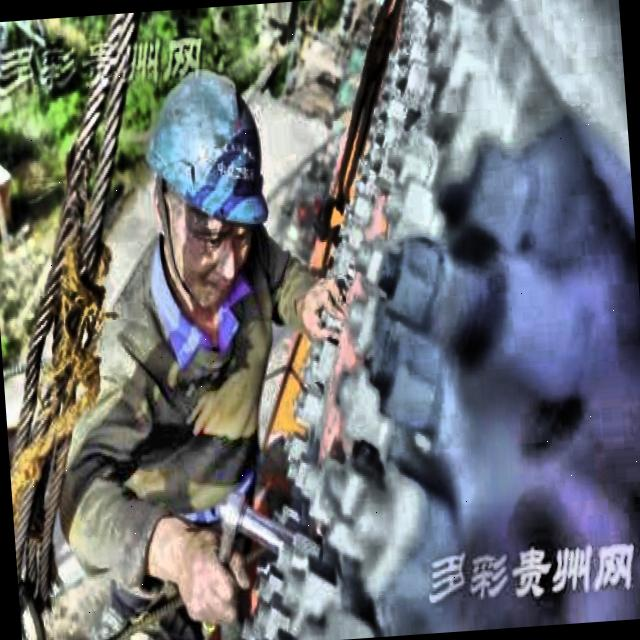helmet: (130, 56, 290, 313)
